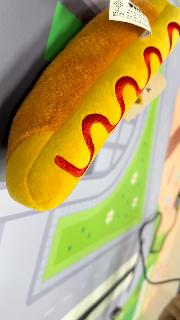hotdog: (5, 1, 179, 212)
